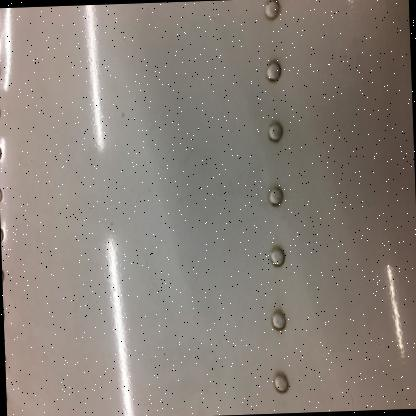Nocrack: (14, 14, 387, 384)
